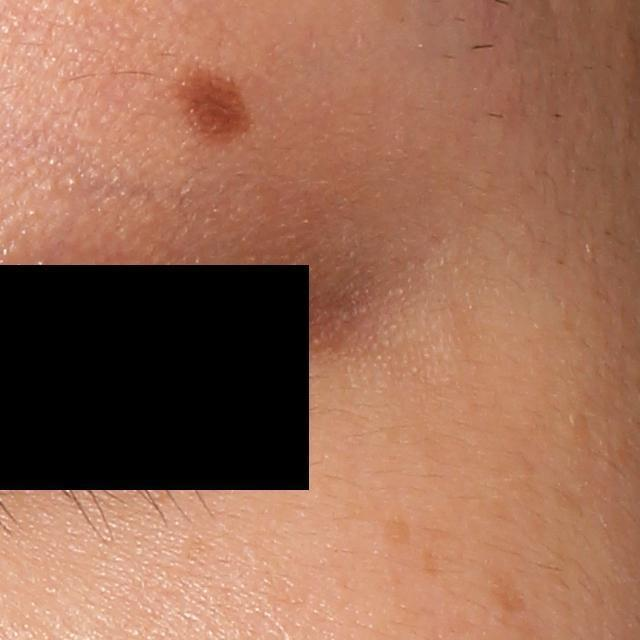melasma: (483, 556, 538, 617), (380, 521, 413, 554), (419, 547, 441, 584)
nevus: (181, 71, 251, 141)
